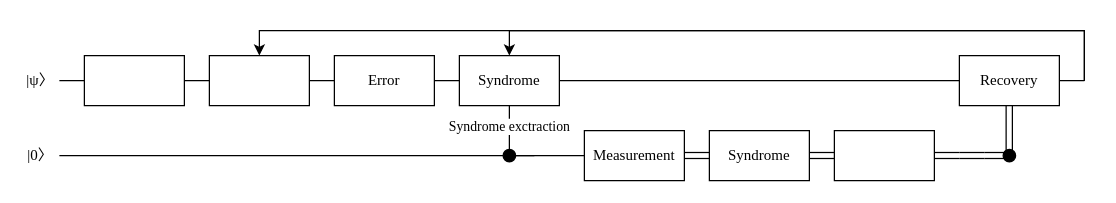
Image size: 1116x203. Some labels were removed from this diagram. Here are the shapes that lost their labels. From the top down, the box of each, then its label:
(83, 54, 184, 106): Encoding
(208, 54, 309, 106): Algorithm step
(833, 129, 934, 181): Decoder
